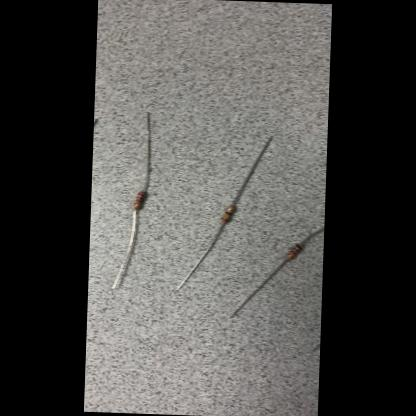resistor: (286, 242, 306, 262), (132, 192, 148, 210), (222, 204, 236, 224)
wire: (230, 259, 288, 321), (177, 224, 224, 292), (232, 136, 272, 206), (112, 209, 136, 289), (142, 112, 152, 192), (300, 226, 324, 245)
